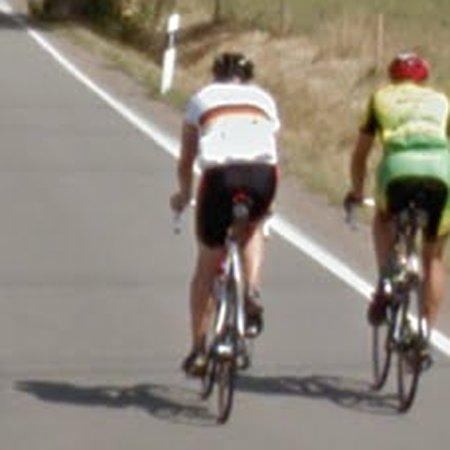bicycles: (369, 209, 434, 414), (202, 202, 250, 424)
